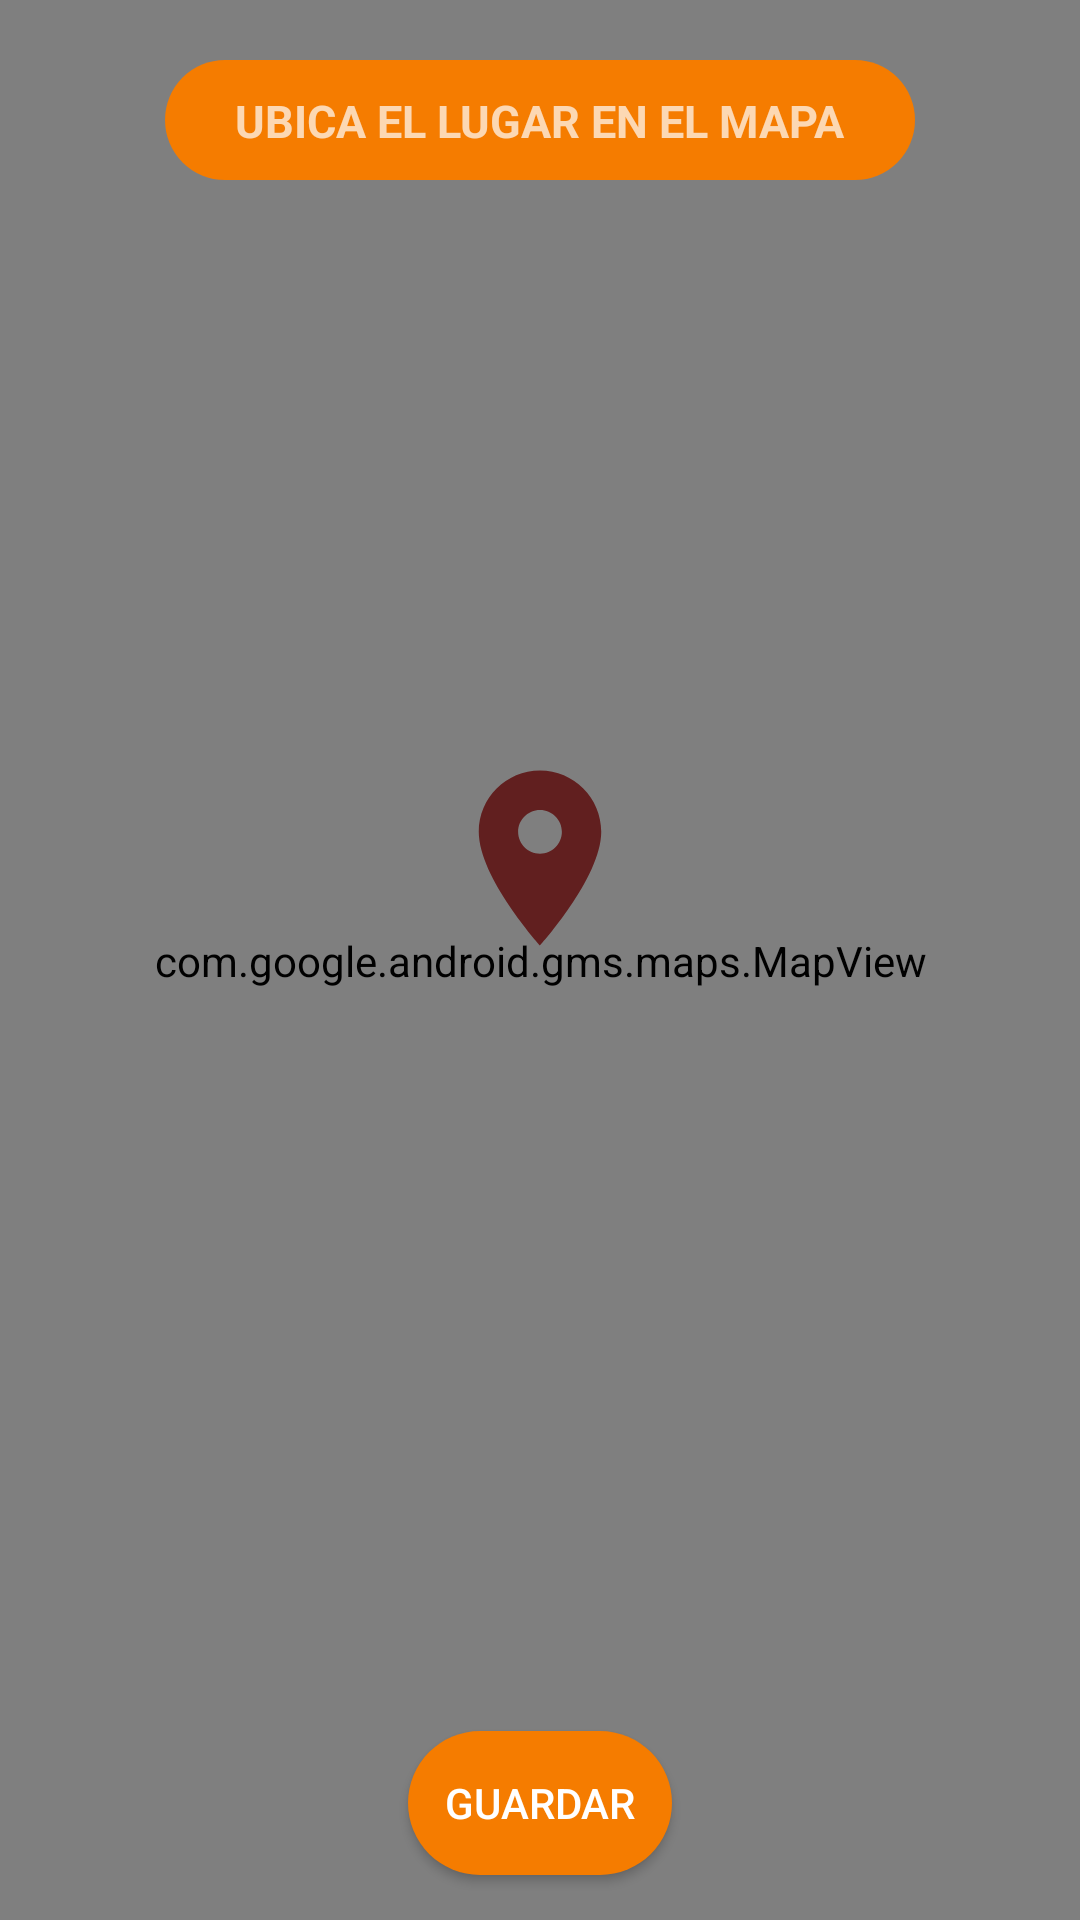

Named icons in this screenshot (1080 × 1920) and their centers, (x=x, y=y):
marker: (x=540, y=860)
